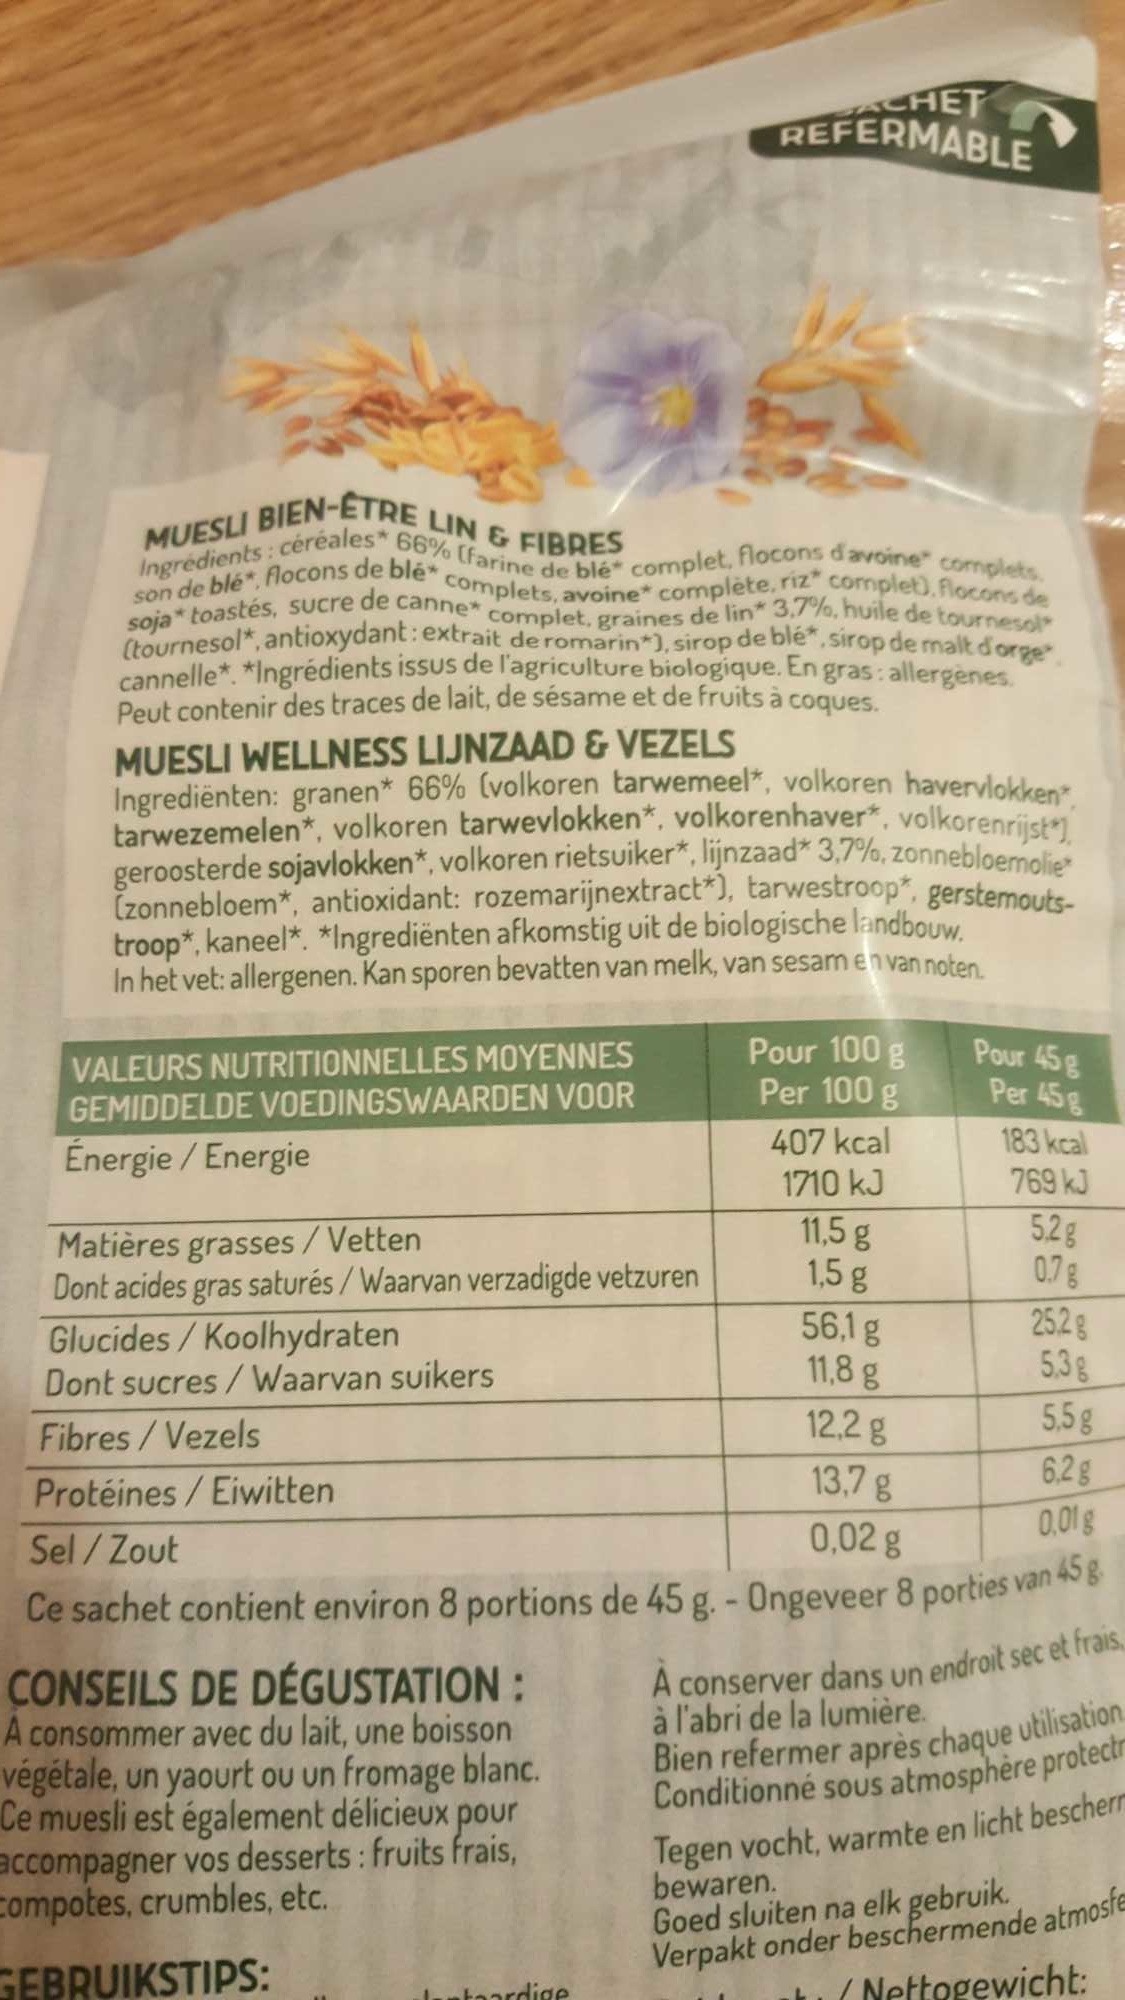column: (32, 1045, 698, 1571), (745, 1033, 909, 1558), (974, 1040, 1102, 1543)
table: (21, 1026, 1125, 1576)
